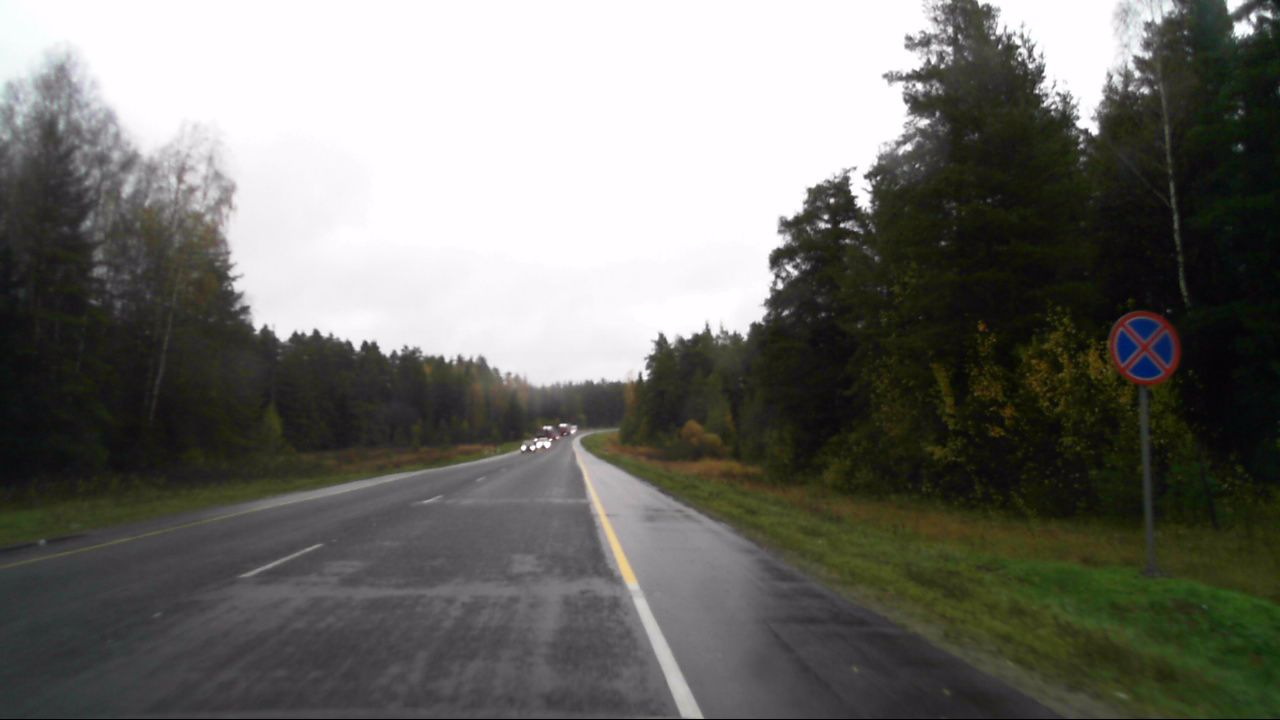No Parking: (1106, 309, 1186, 388)
